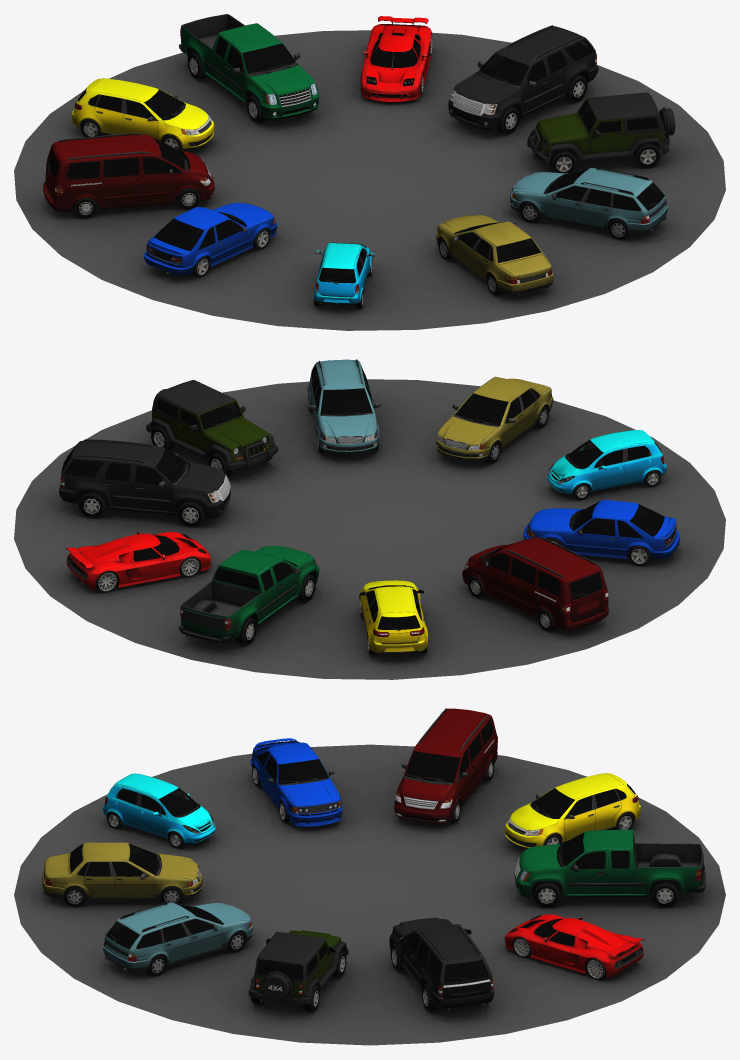
Rendered from car-generic-pack.glb.
3 renders of one model, top to bottom at view 1: azimuth 30°, elevation 25°; view 2: azimuth 150°, elevation 25°; view 3: azimuth 270°, elevation 25°, orthographic.
Parts seen in each view (by area): view 1: Cylinder001__0, Compact Body_Glass_0, Wheel_E_Body_0, Pickup Body_Body_0, minivan body_Body_0, Wagon Body_Body_0, Offroad Body_Body_0, Hatchback Body_Body_0, Coupe Body_Body_0, Sedan Body_Body_0, Sport body_Body_0, Compact Body_Body_0 (+7 smaller); view 2: Cylinder001__0, Compact Body_Glass_0, Wheel_E_Body_0, Pickup Body_Body_0, minivan body_Body_0, Offroad Body_Body_0, Coupe Body_Body_0, Sedan Body_Body_0, Wagon Body_Body_0, Sport body_Body_0, Compact Body_Body_0, Hatchback Body_Body_0 (+6 smaller); view 3: Cylinder001__0, Compact Body_Glass_0, Pickup Body_Body_0, Sedan Body_Body_0, Wagon Body_Body_0, Wheel_E_Body_0, minivan body_Body_0, Hatchback Body_Body_0, Coupe Body_Body_0, Offroad Body_Body_0, Sport body_Body_0, Compact Body_Body_0 (+5 smaller).
Part boxes in pixels (x1=…): Cylinder001__0: x1=14, y1=30, x2=725, y2=330; Compact Body_Glass_0: x1=47, y1=37, x2=664, y2=283; Wheel_E_Body_0: x1=448, y1=25, x2=598, y2=130; Pickup Body_Body_0: x1=178, y1=14, x2=319, y2=120; minivan body_Body_0: x1=43, y1=133, x2=214, y2=211; Wagon Body_Body_0: x1=509, y1=167, x2=667, y2=234; Offroad Body_Body_0: x1=527, y1=92, x2=675, y2=163; Hatchback Body_Body_0: x1=72, y1=78, x2=214, y2=149; Coupe Body_Body_0: x1=143, y1=202, x2=277, y2=275; Sedan Body_Body_0: x1=436, y1=215, x2=553, y2=295; Sport body_Body_0: x1=361, y1=16, x2=431, y2=101; Compact Body_Body_0: x1=314, y1=243, x2=374, y2=305; Cylinder001__0: x1=14, y1=379, x2=725, y2=679; Compact Body_Glass_0: x1=61, y1=364, x2=664, y2=629; Wheel_E_Body_0: x1=59, y1=439, x2=230, y2=521; Pickup Body_Body_0: x1=178, y1=545, x2=319, y2=644; minivan body_Body_0: x1=462, y1=537, x2=608, y2=630; Offroad Body_Body_0: x1=146, y1=380, x2=277, y2=470; Coupe Body_Body_0: x1=523, y1=500, x2=680, y2=559; Sedan Body_Body_0: x1=436, y1=376, x2=553, y2=461; Wagon Body_Body_0: x1=307, y1=359, x2=381, y2=453; Sport body_Body_0: x1=65, y1=531, x2=210, y2=589; Compact Body_Body_0: x1=547, y1=430, x2=666, y2=494; Hatchback Body_Body_0: x1=359, y1=580, x2=428, y2=655; Cylinder001__0: x1=14, y1=744, x2=725, y2=1045; Compact Body_Glass_0: x1=70, y1=720, x2=635, y2=982; Pickup Body_Body_0: x1=514, y1=829, x2=705, y2=898; Sedan Body_Body_0: x1=42, y1=842, x2=202, y2=900; Wagon Body_Body_0: x1=103, y1=902, x2=253, y2=971; Wheel_E_Body_0: x1=389, y1=917, x2=494, y2=1011; minivan body_Body_0: x1=394, y1=708, x2=497, y2=823; Hatchback Body_Body_0: x1=504, y1=773, x2=640, y2=848; Coupe Body_Body_0: x1=250, y1=738, x2=342, y2=826; Offroad Body_Body_0: x1=248, y1=930, x2=348, y2=1005; Sport body_Body_0: x1=504, y1=914, x2=644, y2=977; Compact Body_Body_0: x1=102, y1=773, x2=215, y2=844.
Size of the model in its own units: 19.27 by 1.76 by 19.27.
22 materials, 22 textured.
